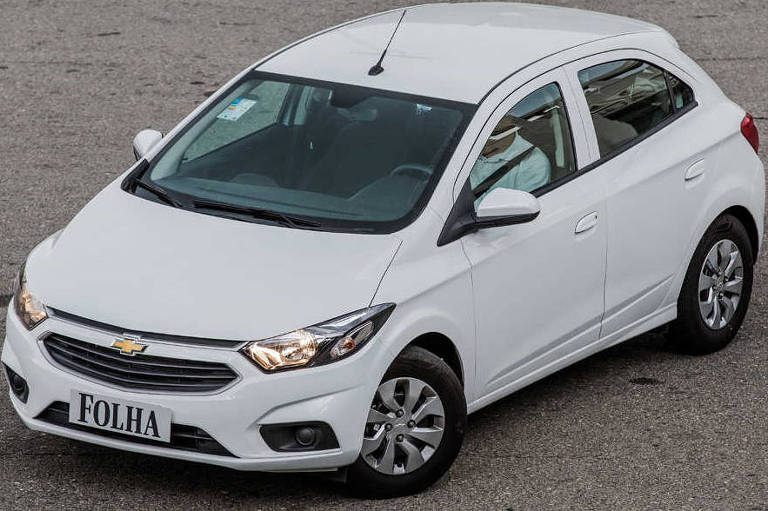Carro: (3, 1, 768, 497)
